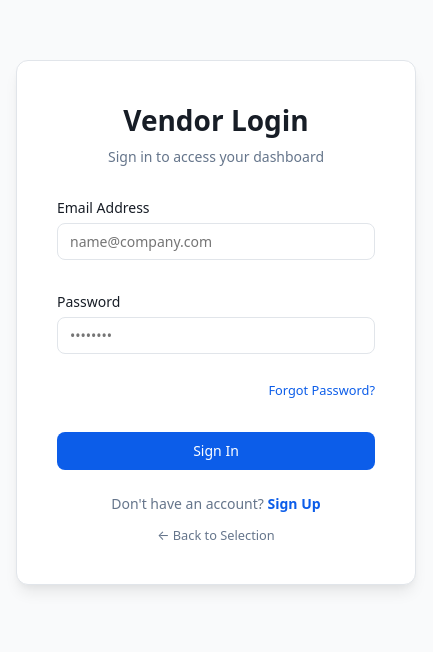
Test: Account Deactivated Flow › shows invalid credentials error on page for standard 401 login failure without redirecting
The image size is (433, 652).
In the field labelled "Email Address": (216, 241) [57,222,375,260], type "wrong@vendor.com"
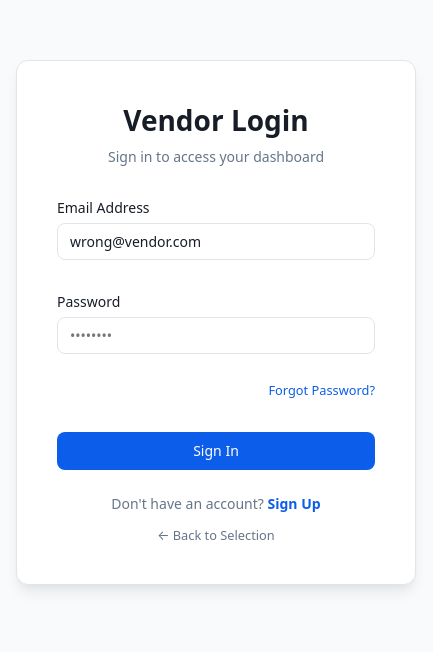
In the password field labelled "Password": (216, 335) [57,316,375,354], type "WrongPass"
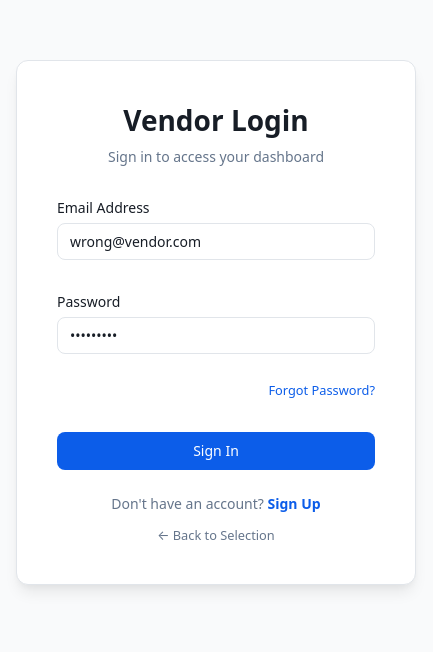
Click the button "Sign In": (216, 450) [57,432,375,470]
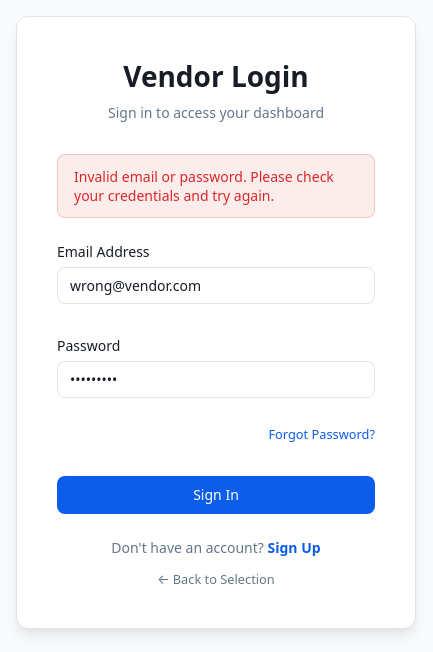
Expected: the text "Invalid email or password. Please check your credentials and try again." is shown, [57,154,375,218]
